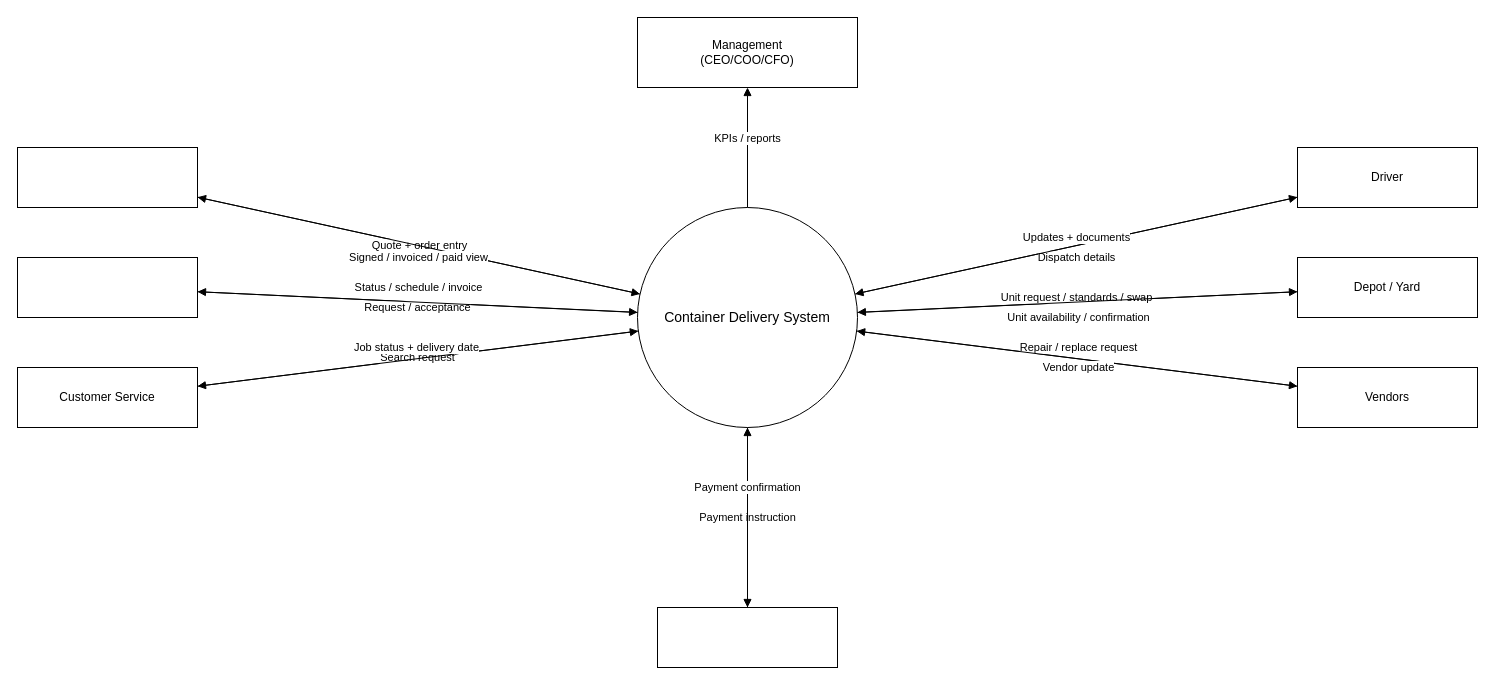
The diagram is 1495 pixels wide and 685 high, and some of its shapes have lost their labels. The shapes that lost their labels are listed below. From the top down, each one's centre as x and y in pixels, then its label:
(107,177): Sales Agent
(107,287): Customer
(747,637): Bank / Payment
